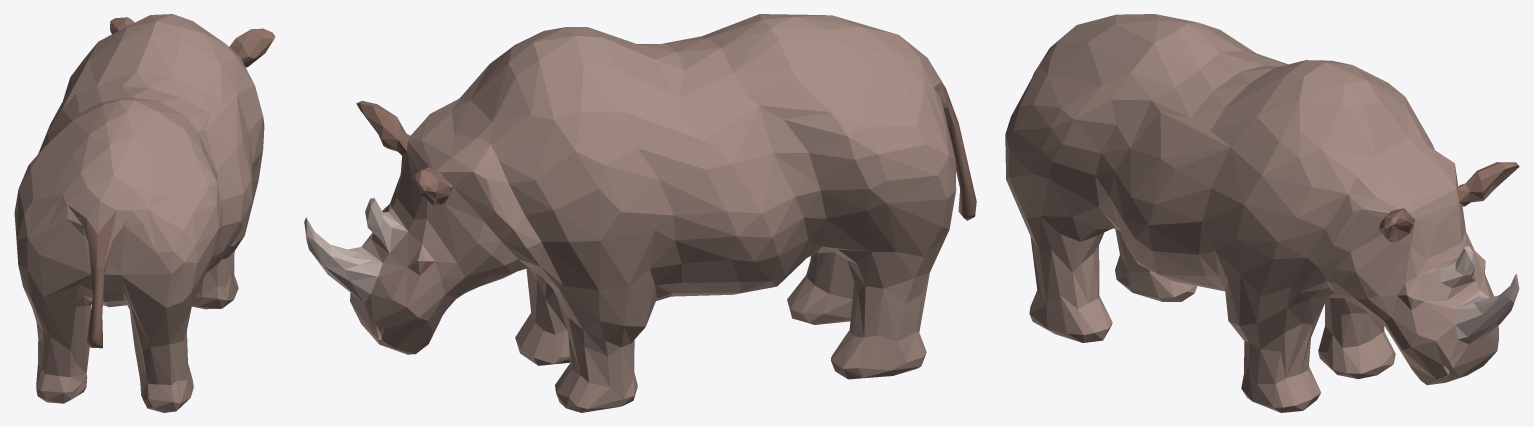
File: rhino.glb
3 renders of one model, left to right at view 1: azimuth 30°, elevation 25°; view 2: azimuth 150°, elevation 25°; view 3: azimuth 270°, elevation 25°, orthographic. The views are drawn at different scales.
Parts seen in each view (by area): view 1: Plane.001_0; view 2: Plane.001_0; view 3: Plane.001_0.
Part boxes in pixels (left/top/right/bottom): Plane.001_0: left=14, top=14, right=275, bottom=412; Plane.001_0: left=304, top=14, right=976, bottom=412; Plane.001_0: left=1005, top=14, right=1519, bottom=412.
Bounding box in the file's own units: 19.41 × 14.25 × 20.43.
Materials: 1 (1 with a texture image).
